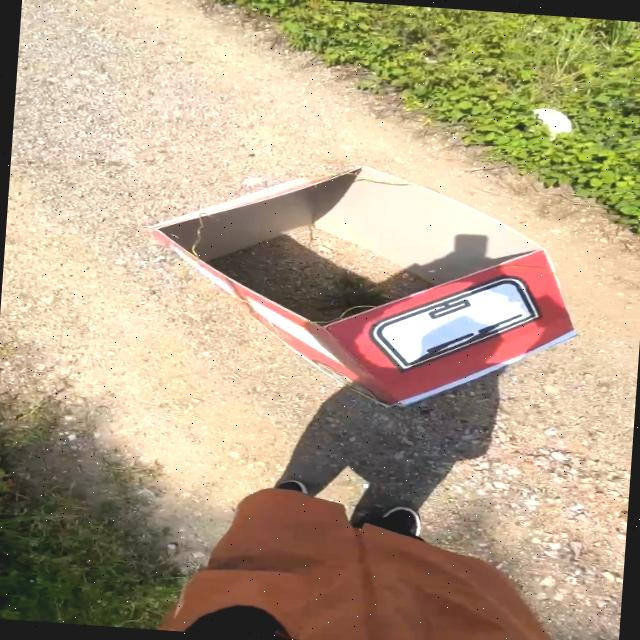red_car: (98, 109, 604, 446)
